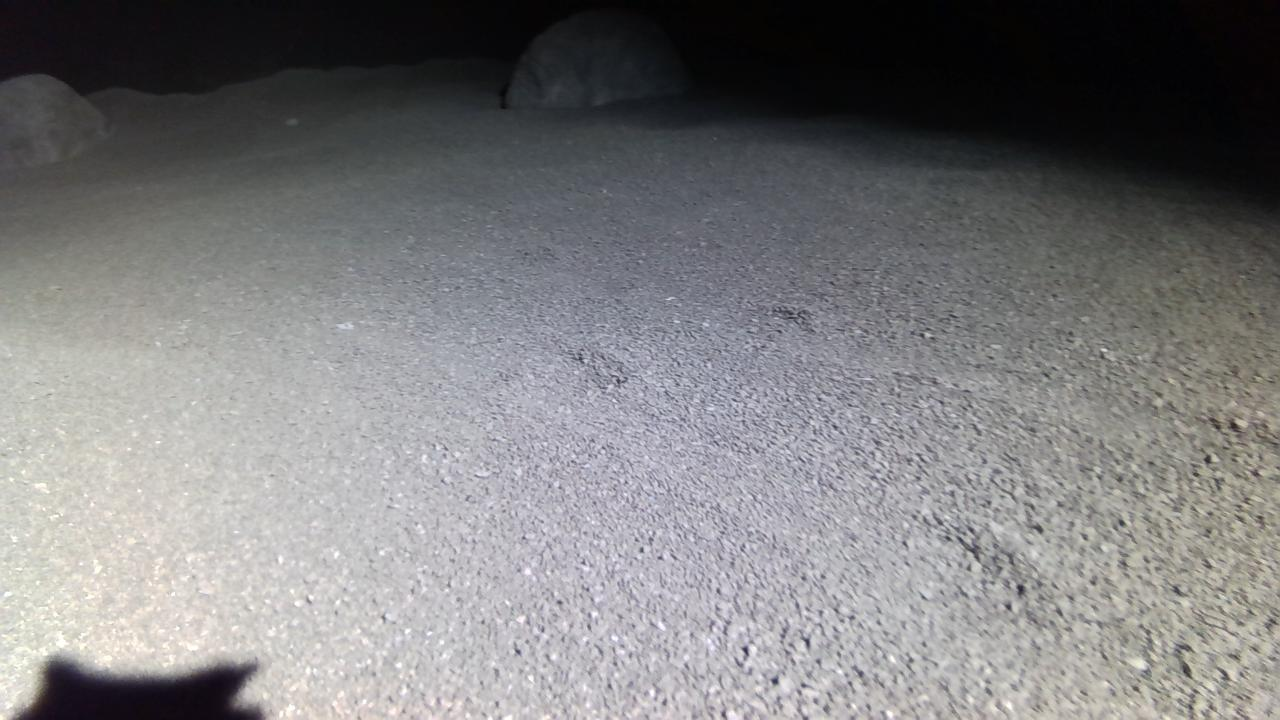rock: (0, 73, 103, 166)
